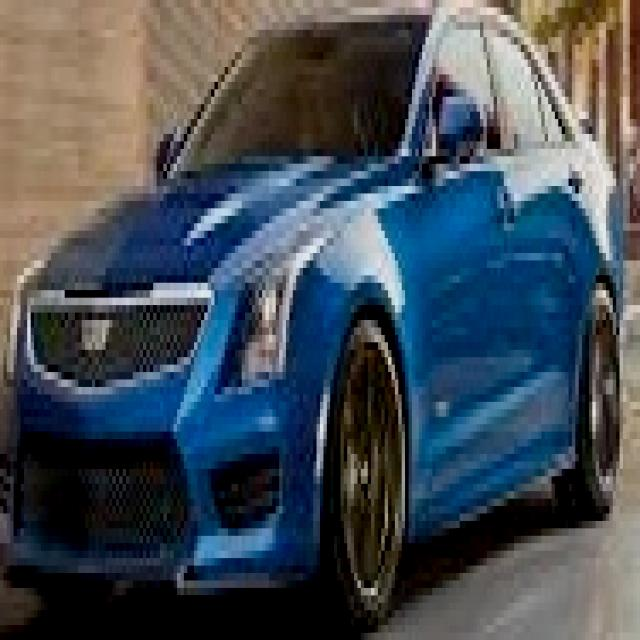blue: (2, 5, 623, 602)
